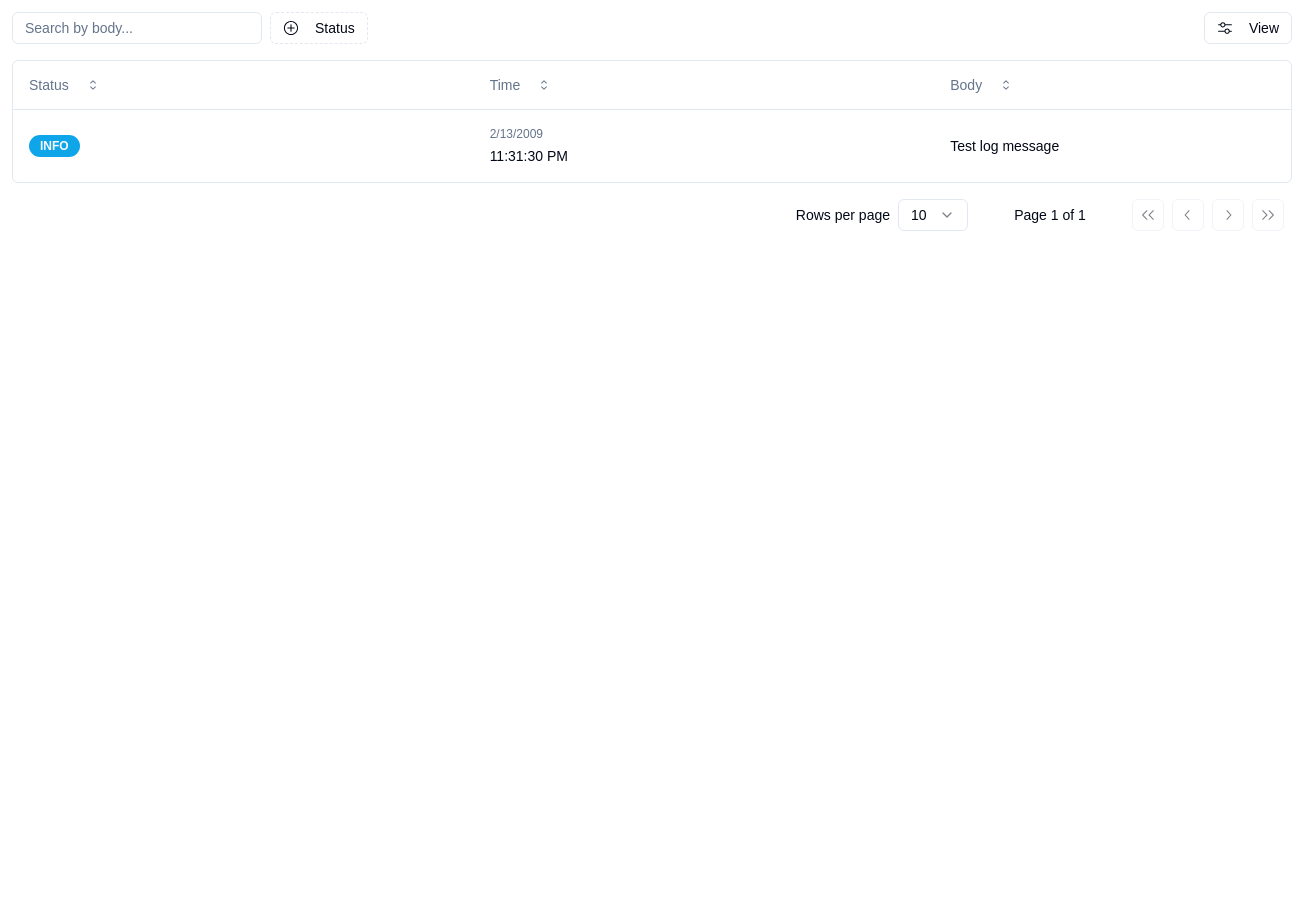
it: LogsTable › should expand and collapse row on click
Expected: the text "Test log message" is shown, [950,138,1059,154]
Click the text "Test log message": x=54, y=146 [13,109,1291,182]
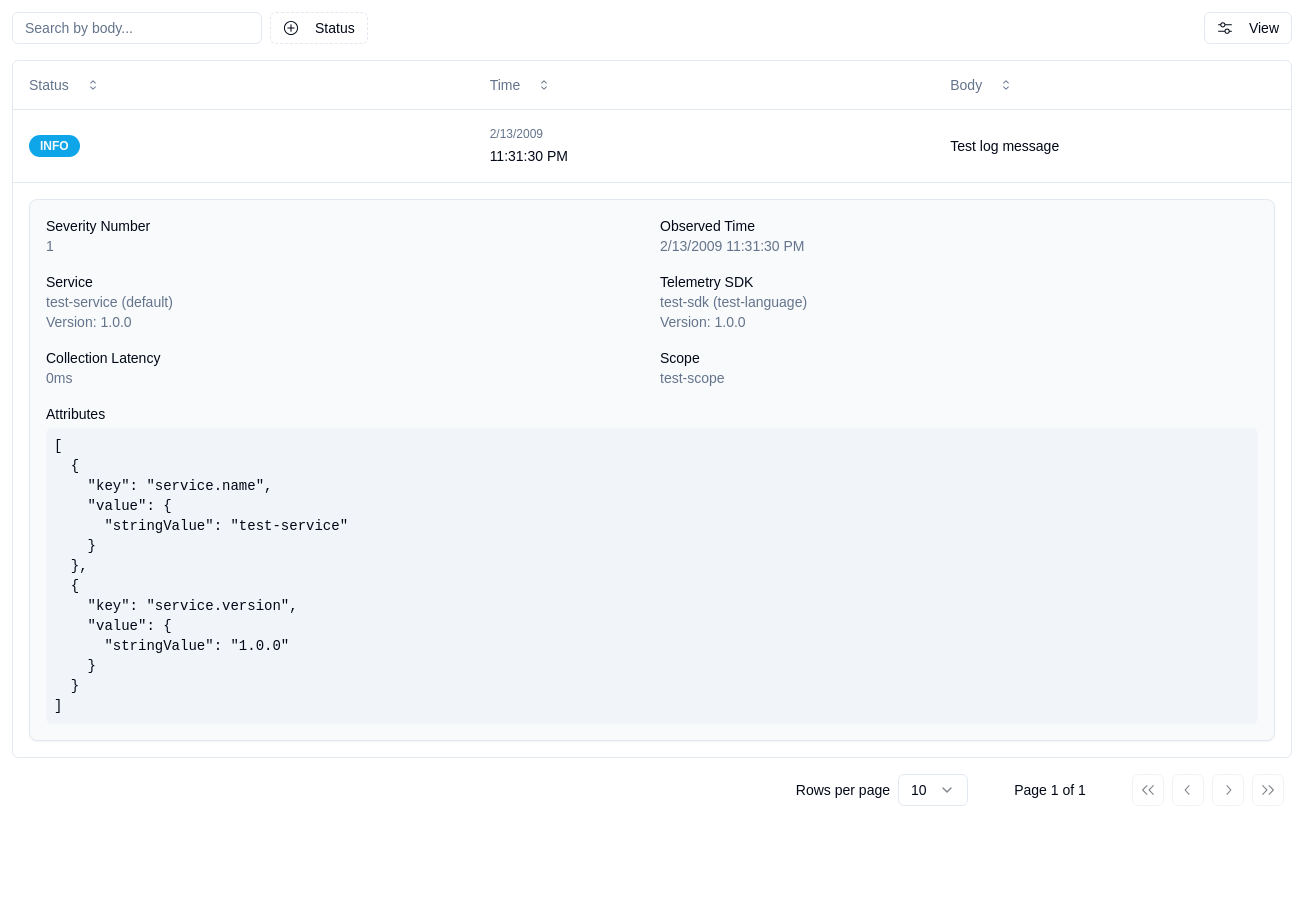
Now the text "Severity Number" is shown, box [46,218,150,234]
Now the text "Service" is shown, box [46,274,93,290]
Click the text "Test log message": x=652, y=146 [13,109,1291,182]
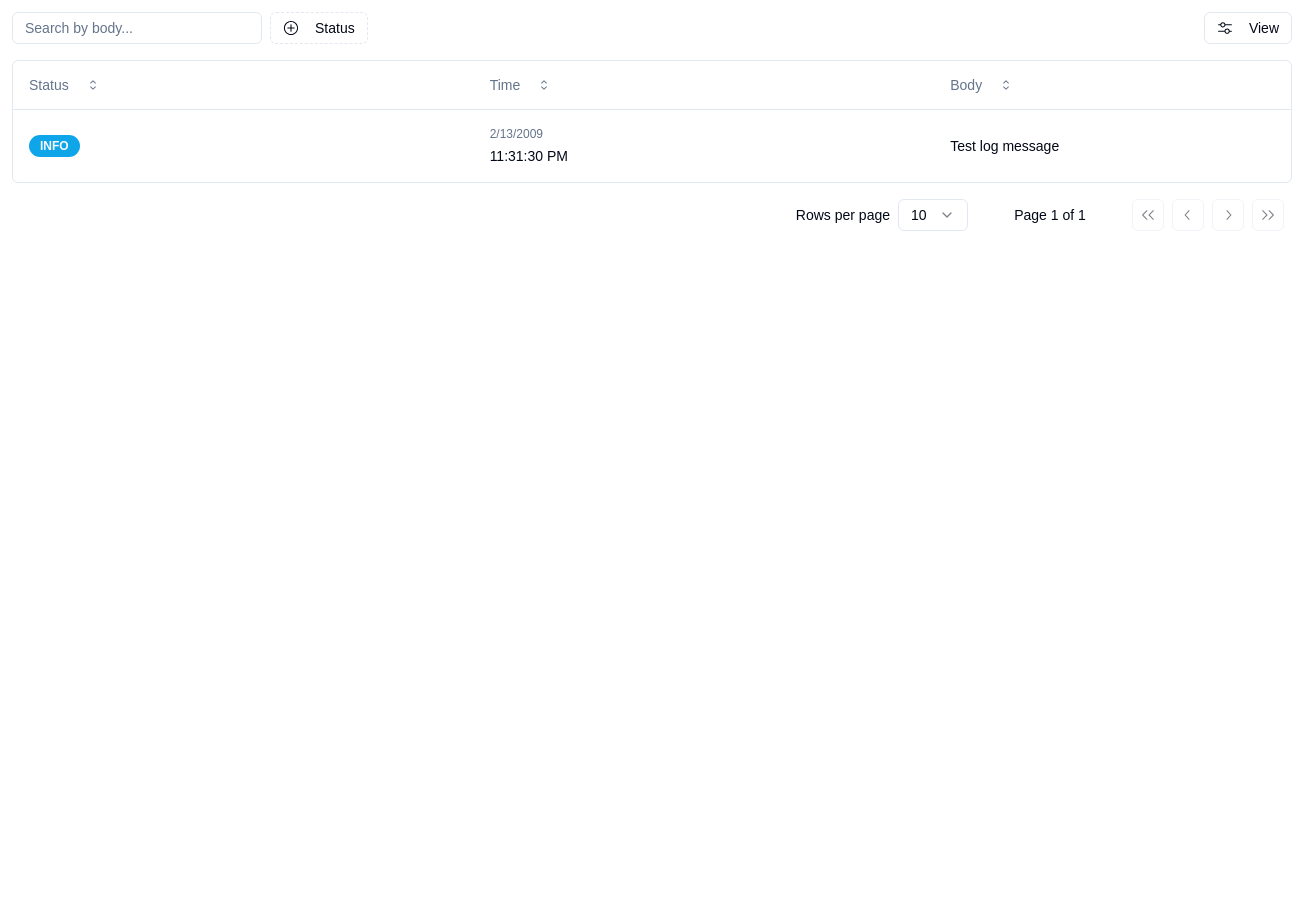
Now the text "Severity Number" is gone
